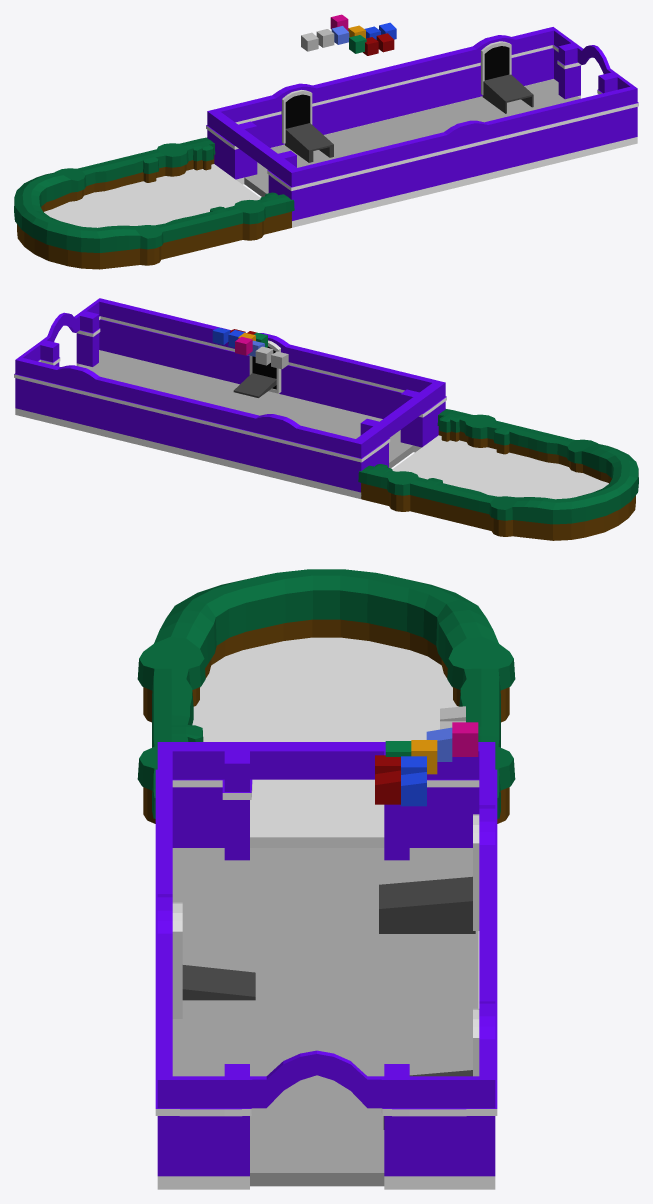
File: Terrains01.fbx
3 views of the same model, one above another, from view 1: azimuth 30°, elevation 25°; view 2: azimuth 150°, elevation 25°; view 3: azimuth 270°, elevation 25° (orthographic). The views are drawn at different scales.
Parts seen in each view (by area): view 1: Fabric, Terrain01, Water, Fabric.005, Fabric.003, Fabric.004; view 2: Fabric, Terrain01, Fabric.005, Water, Fabric.001; view 3: Fabric.005, Fabric, Terrain01, Water, Fabric.003, Fabric.001, FloorFabric.008, FloorFabric.009, FloorFabric.010.
Boxes of the visible parts, x1=… form: Fabric: x1=206, y1=27, x2=638, y2=227; Terrain01: x1=14, y1=137, x2=294, y2=269; Water: x1=44, y1=164, x2=260, y2=227; Fabric.005: x1=244, y1=79, x2=580, y2=196; Fabric.003: x1=285, y1=123, x2=333, y2=162; Fabric.004: x1=482, y1=74, x2=533, y2=113; Fabric: x1=14, y1=298, x2=446, y2=498; Terrain01: x1=358, y1=409, x2=638, y2=540; Fabric.005: x1=78, y1=350, x2=413, y2=468; Water: x1=392, y1=435, x2=608, y2=499; Fabric.001: x1=233, y1=373, x2=276, y2=397; Fabric.005: x1=172, y1=848, x2=478, y2=1186; Fabric: x1=155, y1=742, x2=497, y2=1189; Terrain01: x1=137, y1=569, x2=515, y2=823; Water: x1=192, y1=637, x2=458, y2=847; Fabric.003: x1=379, y1=876, x2=475, y2=933; Fabric.001: x1=182, y1=965, x2=255, y2=1000; FloorFabric.008: x1=452, y1=722, x2=478, y2=756; FloorFabric.009: x1=401, y1=772, x2=426, y2=806; FloorFabric.010: x1=375, y1=770, x2=400, y2=804.
Size of the model in its own units: 236 by 49.64 by 67.68.
